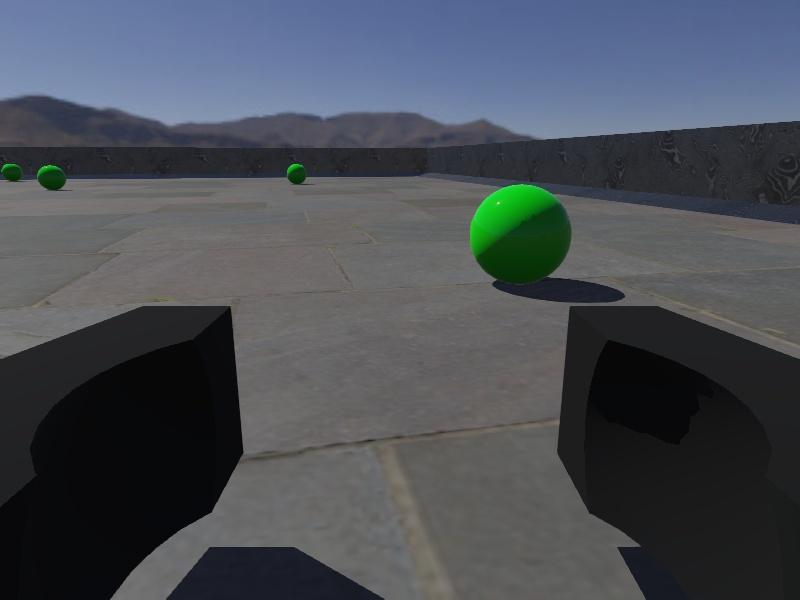green ball: (468, 184, 573, 286), (36, 165, 67, 191), (286, 163, 308, 185), (2, 163, 24, 182)
